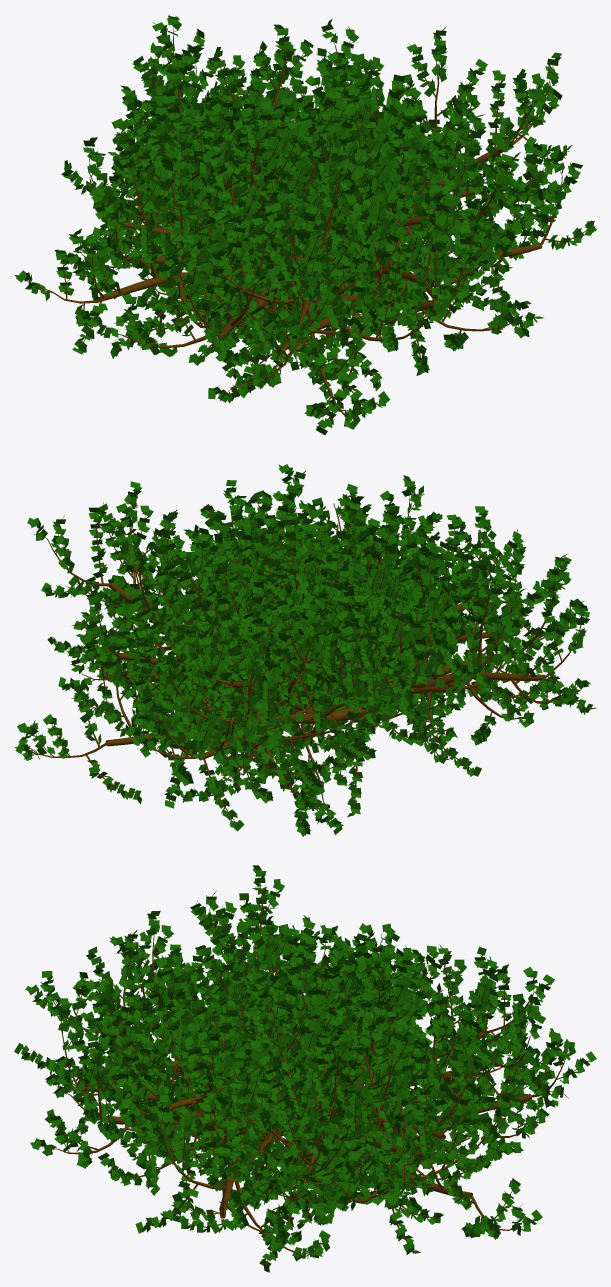
The model's file is Bush.FBX.
3 renders of one model, top to bottom at view 1: azimuth 30°, elevation 25°; view 2: azimuth 150°, elevation 25°; view 3: azimuth 270°, elevation 25°, orthographic. The views are drawn at different scales.
Parts seen in each view (by area): view 1: Foliage002; view 2: Foliage002; view 3: Foliage002.
Part boxes in pixels (<box>): Foliage002: <box>14,15,596,434</box>; Foliage002: <box>14,464,596,836</box>; Foliage002: <box>14,865,596,1272</box>.
Bounding box in the file's own units: 188 × 104 × 176.
